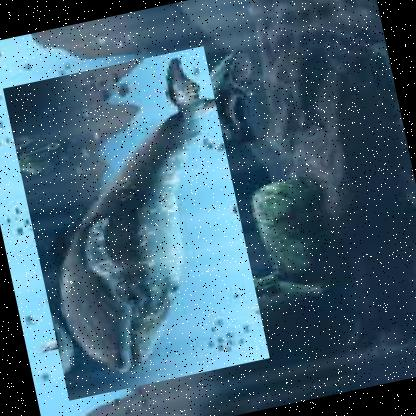blue_whale: (1, 46, 270, 402)
